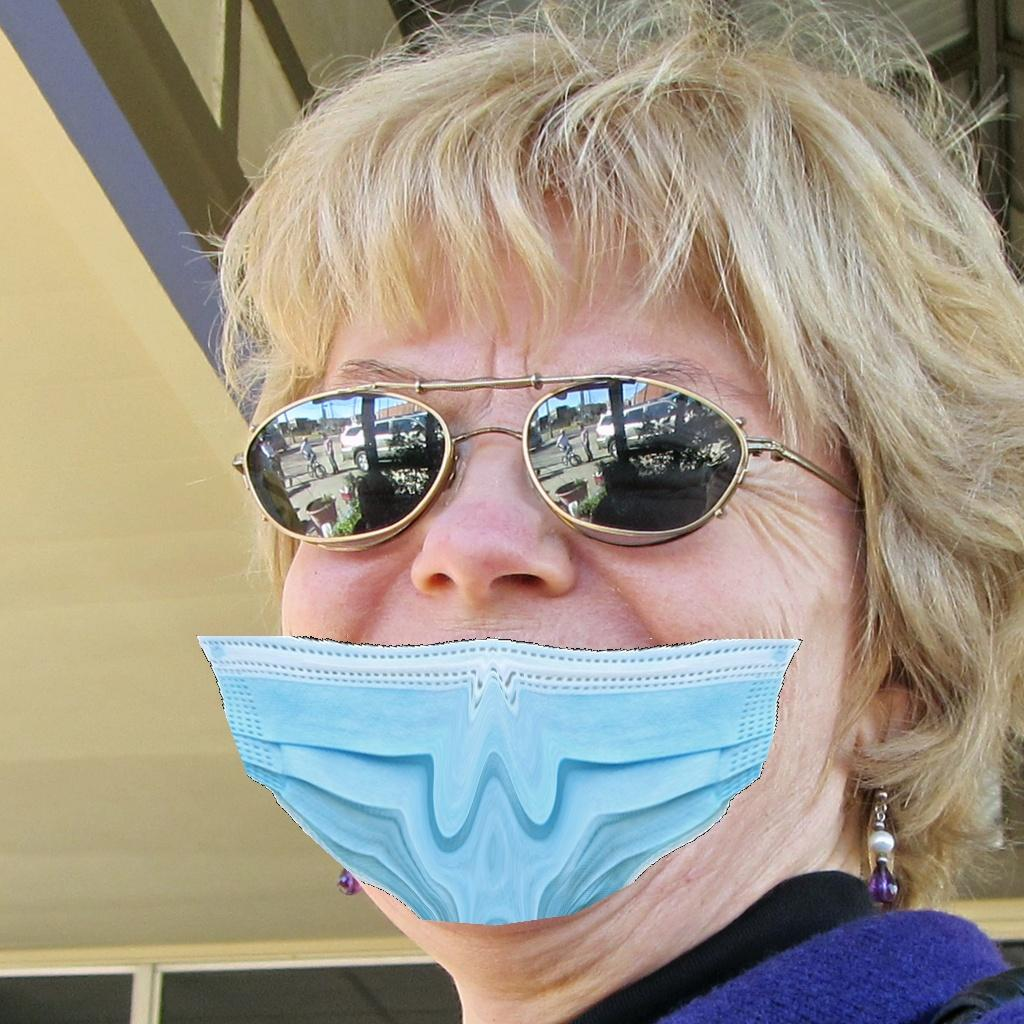Máscara Incorreta: (270, 258, 840, 957)
